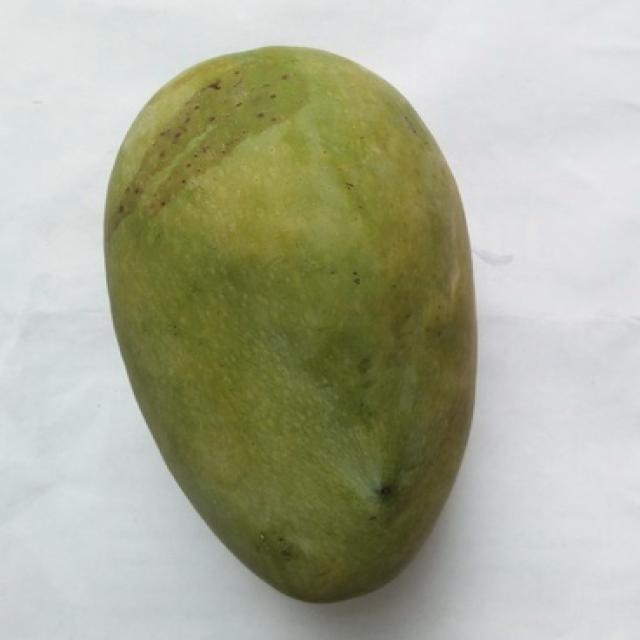Mango: (106, 47, 475, 600)
